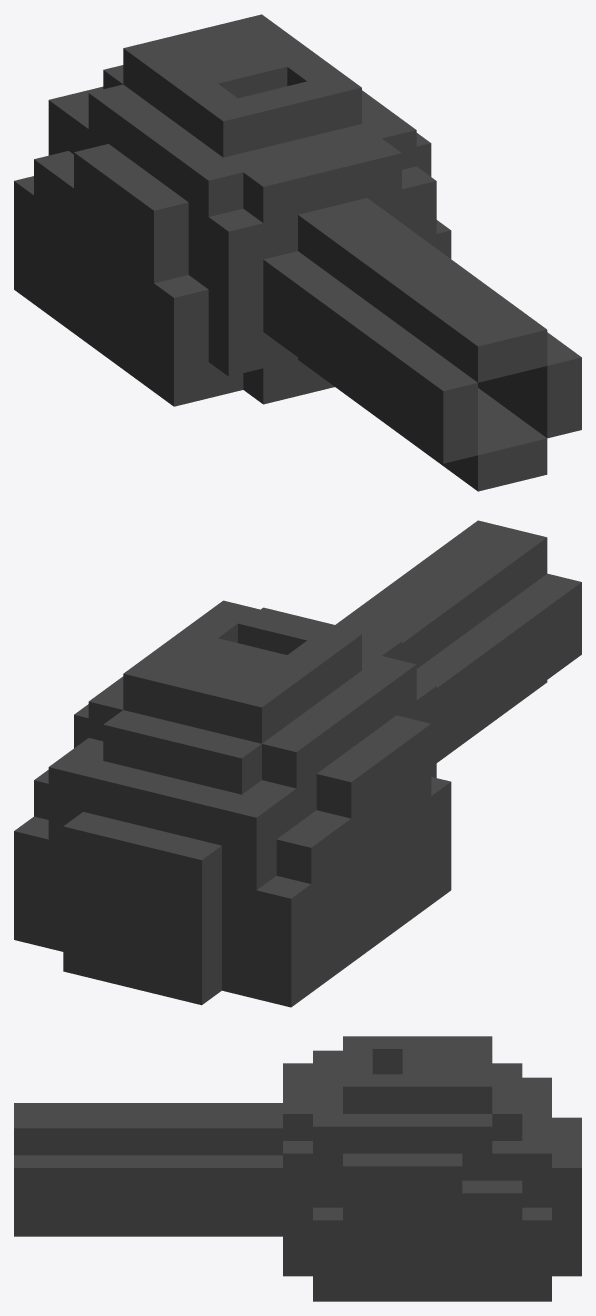
Rendered from LightTank-1.obj.
3 renders of one model, top to bottom at view 1: azimuth 30°, elevation 25°; view 2: azimuth 150°, elevation 25°; view 3: azimuth 270°, elevation 25°, orthographic. The views are drawn at different scales.
Bounding box in the file's own units: 0.8 × 0.7 × 1.9.
